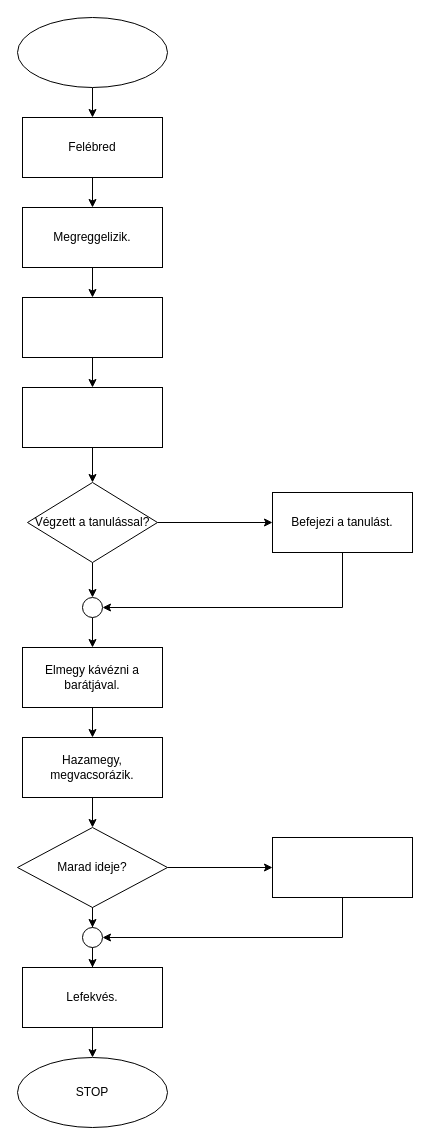
This 430x1145 diagram has some shape labels left out. The shapes that lost their labels are listed below. From the top down, each one's box as (x1, y1, x2, y2) in pixels, then its label:
(16, 16, 168, 88): START
(22, 296, 162, 358): Elmegy az egyetemre.
(22, 386, 162, 448): Hazamegy tanulni.
(272, 836, 412, 898): Megnéz egy filmet.
